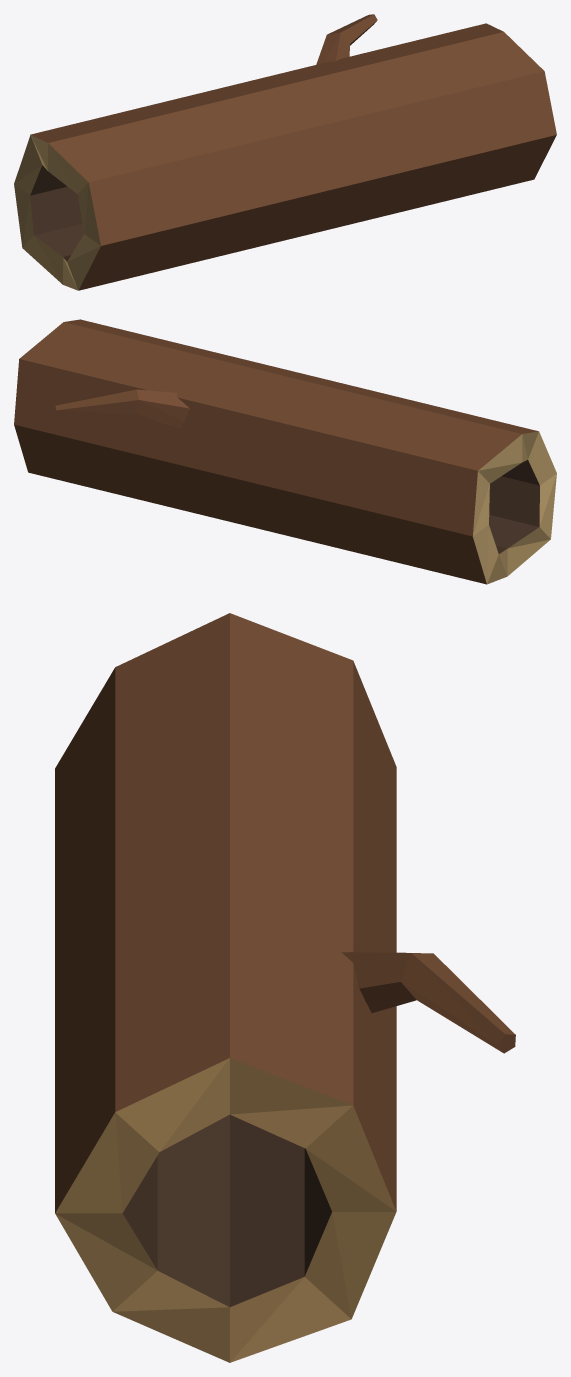
File: Prop_Common_HollowLog_001_LOD1.glb
3 views of the same model, one above another, from view 1: azimuth 30°, elevation 25°; view 2: azimuth 150°, elevation 25°; view 3: azimuth 270°, elevation 25° (orthographic). The views are drawn at different scales.
Visible parts, largest first — view 1: Prop_Common_HollowLog_001_LOD1; view 2: Prop_Common_HollowLog_001_LOD1; view 3: Prop_Common_HollowLog_001_LOD1.
Boxes of the visible parts, bbox=[...] form: Prop_Common_HollowLog_001_LOD1: bbox=[14, 14, 556, 290]; Prop_Common_HollowLog_001_LOD1: bbox=[14, 319, 556, 584]; Prop_Common_HollowLog_001_LOD1: bbox=[55, 613, 515, 1362].
Size of the model in its own units: 3.72 by 1.1 by 1.58.
